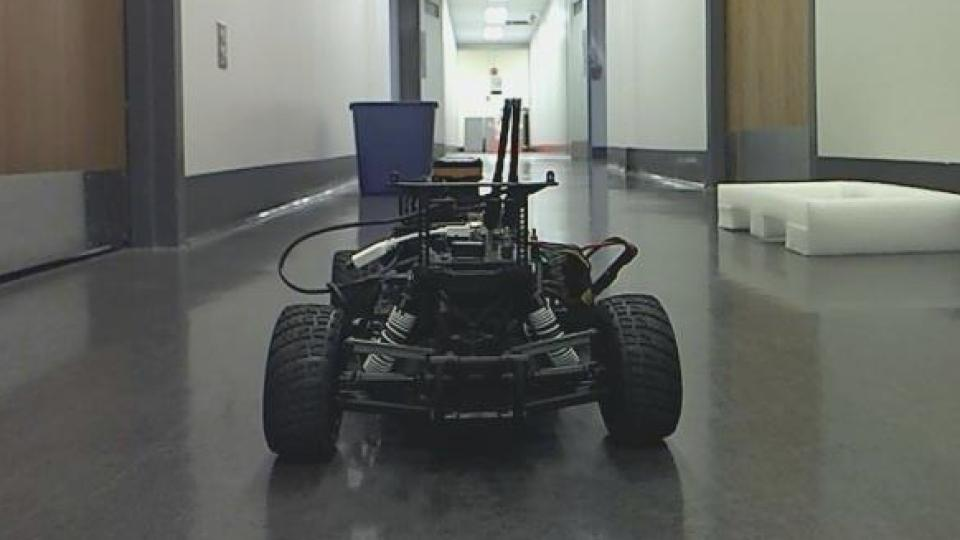car: (257, 96, 686, 466)
